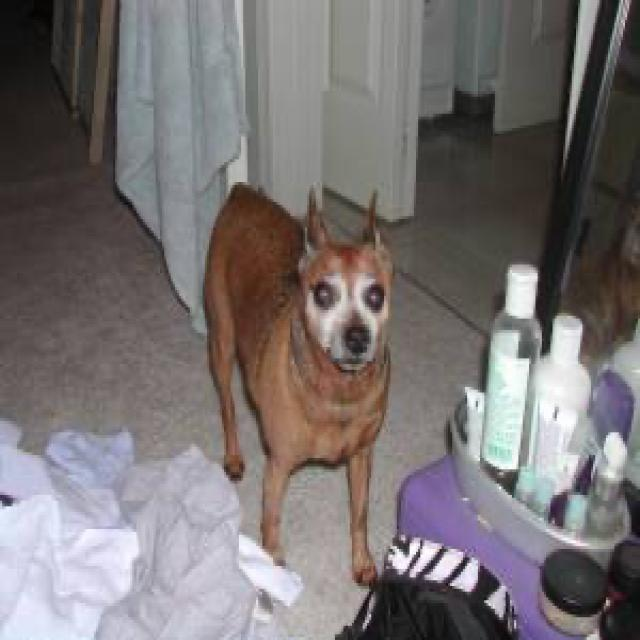dog: (292, 182, 390, 367)
